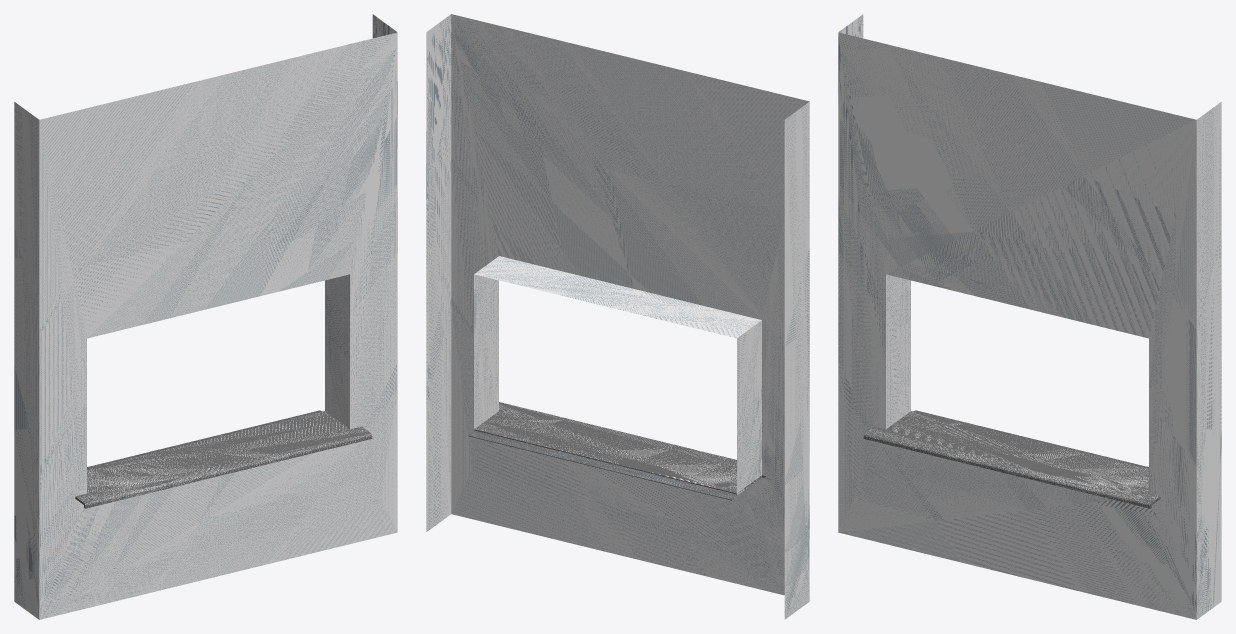
The model's file is WindowBlock_os_[300x400]_220x124x[090].dae.
3 renders of one model, left to right at view 1: azimuth 30°, elevation 25°; view 2: azimuth 150°, elevation 25°; view 3: azimuth 330°, elevation 25°, orthographic.
Parts seen in each view (by area): view 1: group_1 (×2), group_2 (×2); view 2: group_1 (×2), group_2 (×2); view 3: group_1 (×2), group_2 (×2).
Part boxes in pixels (box(x1,y1,x2,y2)): group_1 (×2): box(14, 14, 397, 619); group_2 (×2): box(75, 410, 372, 508); group_1 (×2): box(426, 14, 809, 619); group_2 (×2): box(469, 402, 769, 500); group_1 (×2): box(838, 14, 1221, 619); group_2 (×2): box(863, 410, 1160, 508).
Bounding box in the file's own units: 118 × 23.03 × 157.
